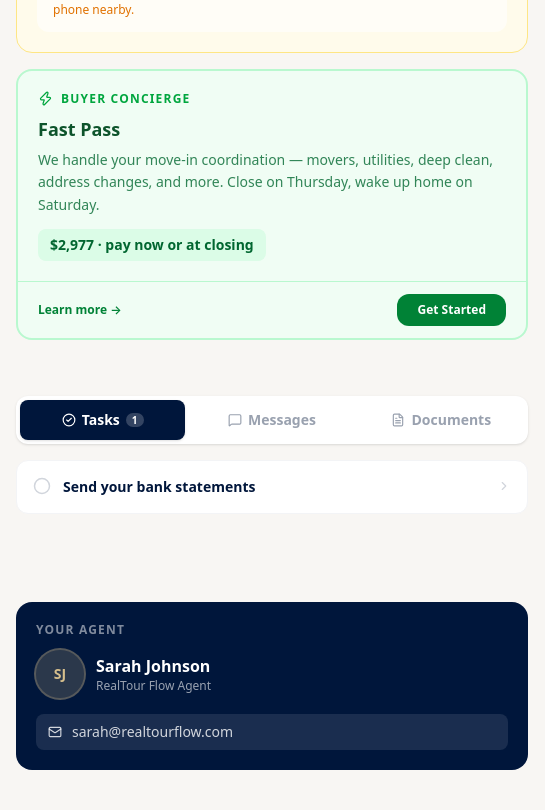
Scenario: Buyer portal task completion › optimistically checks the task off immediately on click
This screenshot has width=545, height=810.
(page scrolled)
Click the button "Send your bank statements" at (159, 486), box [17, 461, 527, 513]
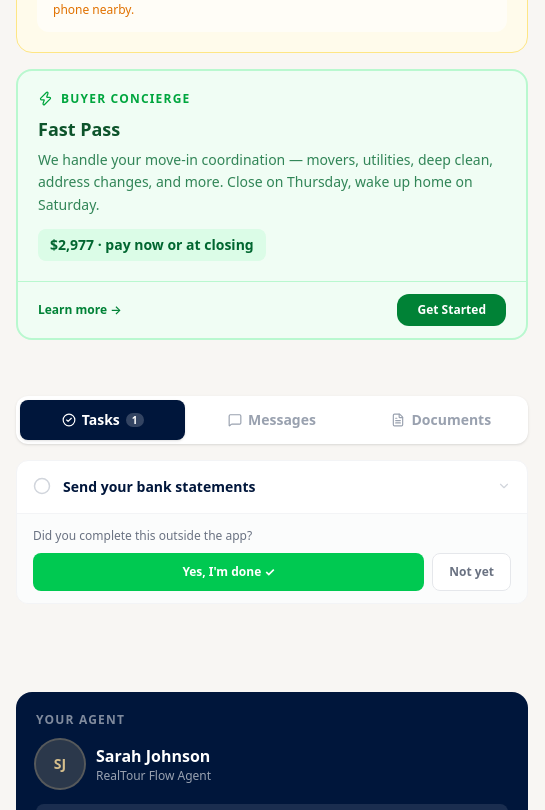
Click the button "Yes, I'm done ✓" at (229, 572), box [33, 553, 424, 591]
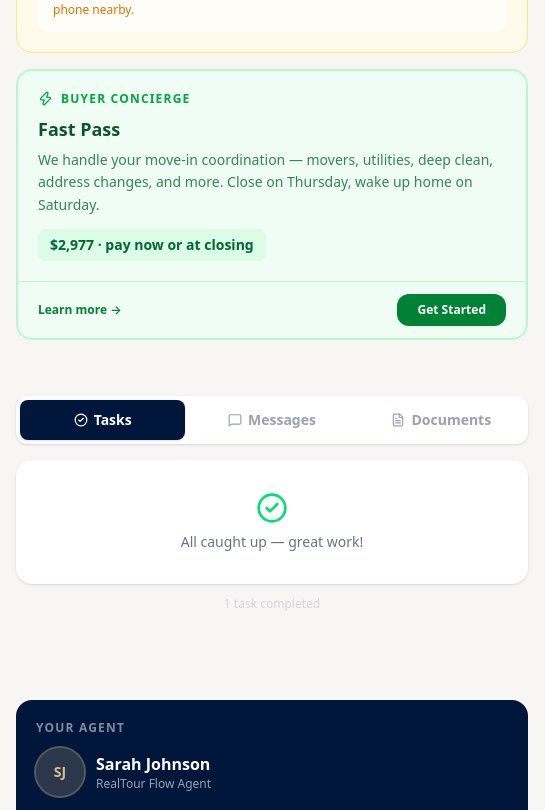
Expected: the button "Send your bank statements" is gone
Expected: the text "All caught up — great work!" is shown, [181, 532, 363, 551]
